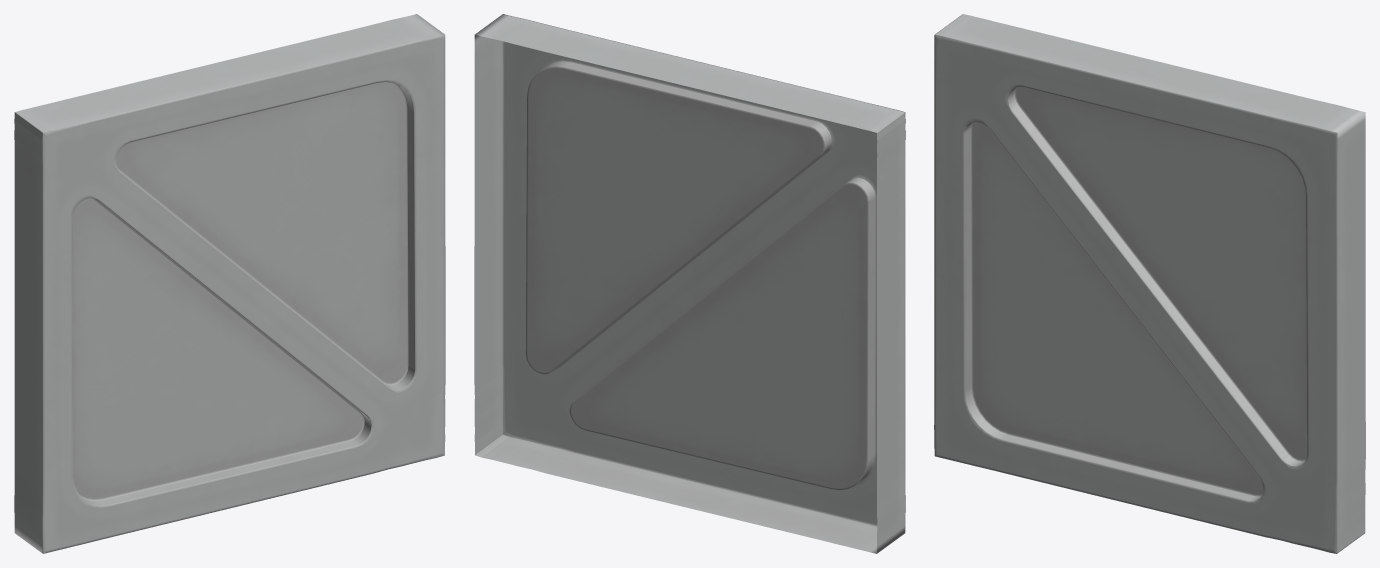
The model's file is TileMural1.fbx.
The picture shows the model from 3 angles, left to right: view 1: azimuth 30°, elevation 25°; view 2: azimuth 150°, elevation 25°; view 3: azimuth 330°, elevation 25°; orthographic projection.
Visible parts, largest first — view 1: Plane; view 2: Plane; view 3: Plane.
Boxes of the visible parts, left/top/right/bottom form: Plane: left=14, top=14, right=445, bottom=553; Plane: left=474, top=14, right=905, bottom=553; Plane: left=934, top=14, right=1365, bottom=553.
Size of the model in its own units: 22.67 by 22.67 by 2.76.
